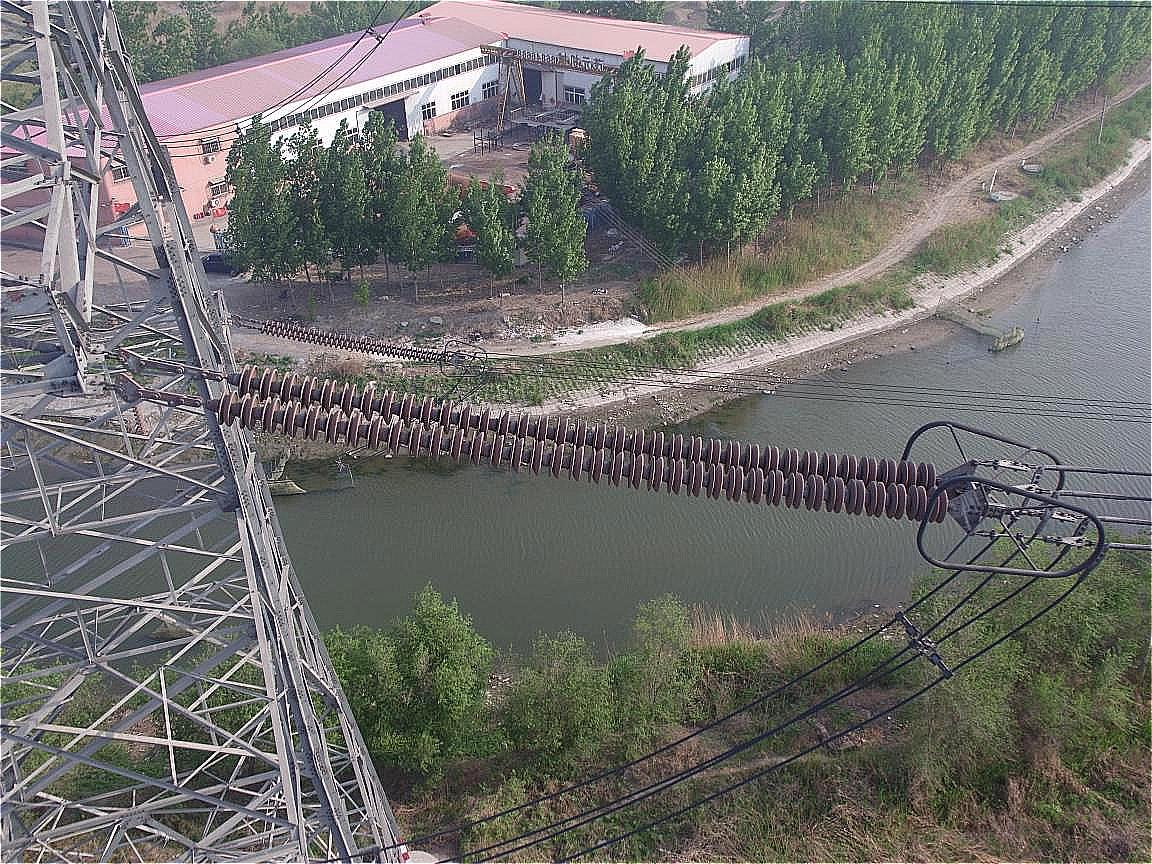insultor2: (217, 363, 950, 523), (260, 319, 451, 364)
